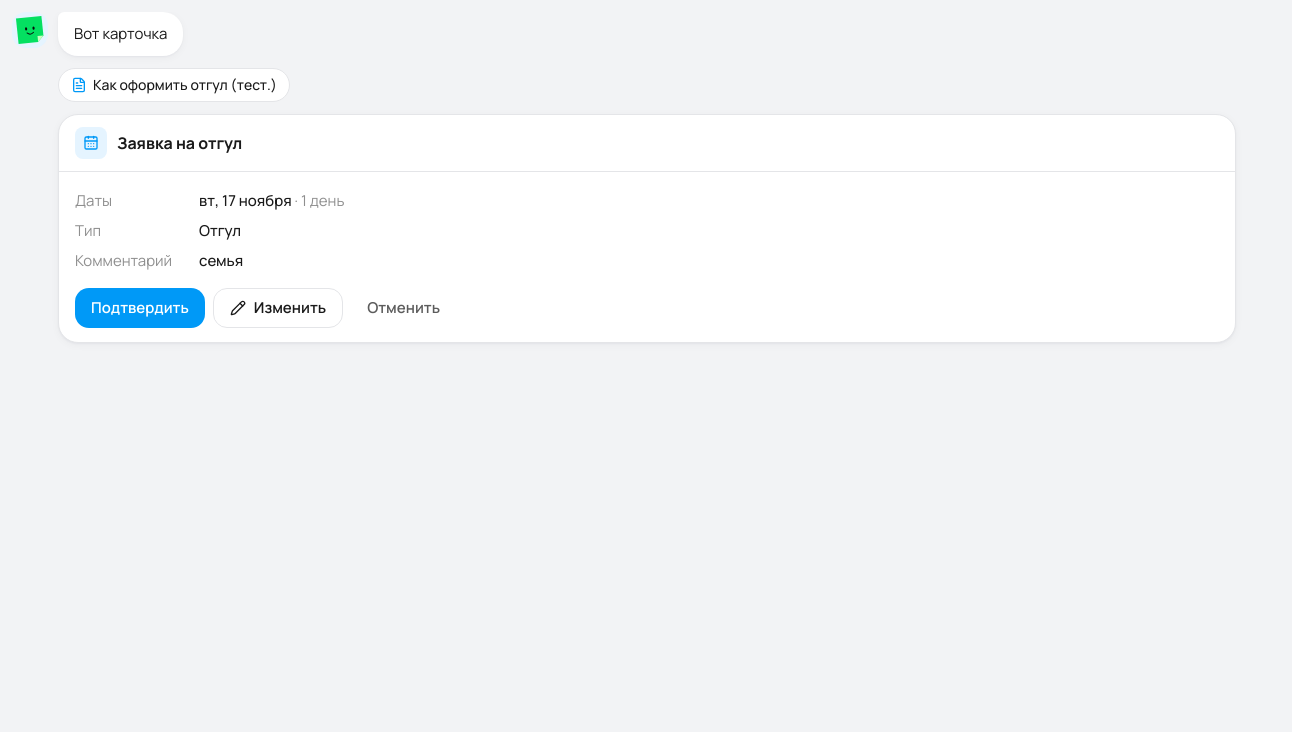
ActionCard: leave_request › «Отменить правки» возвращает просмотр, «Отменить» — отменяет действие
Click the button "Изменить": (278, 308) [213,288,343,328]
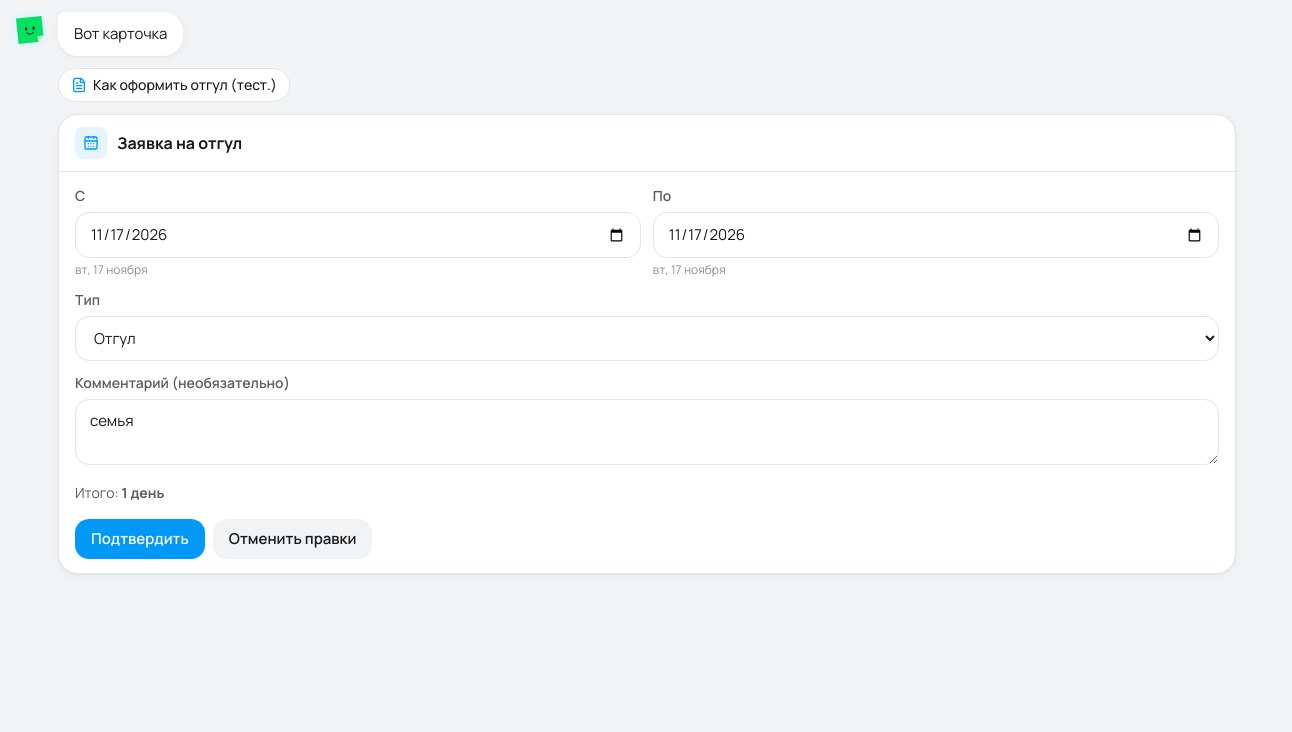
Click the button "Отменить правки": (293, 539) [213,519,372,559]
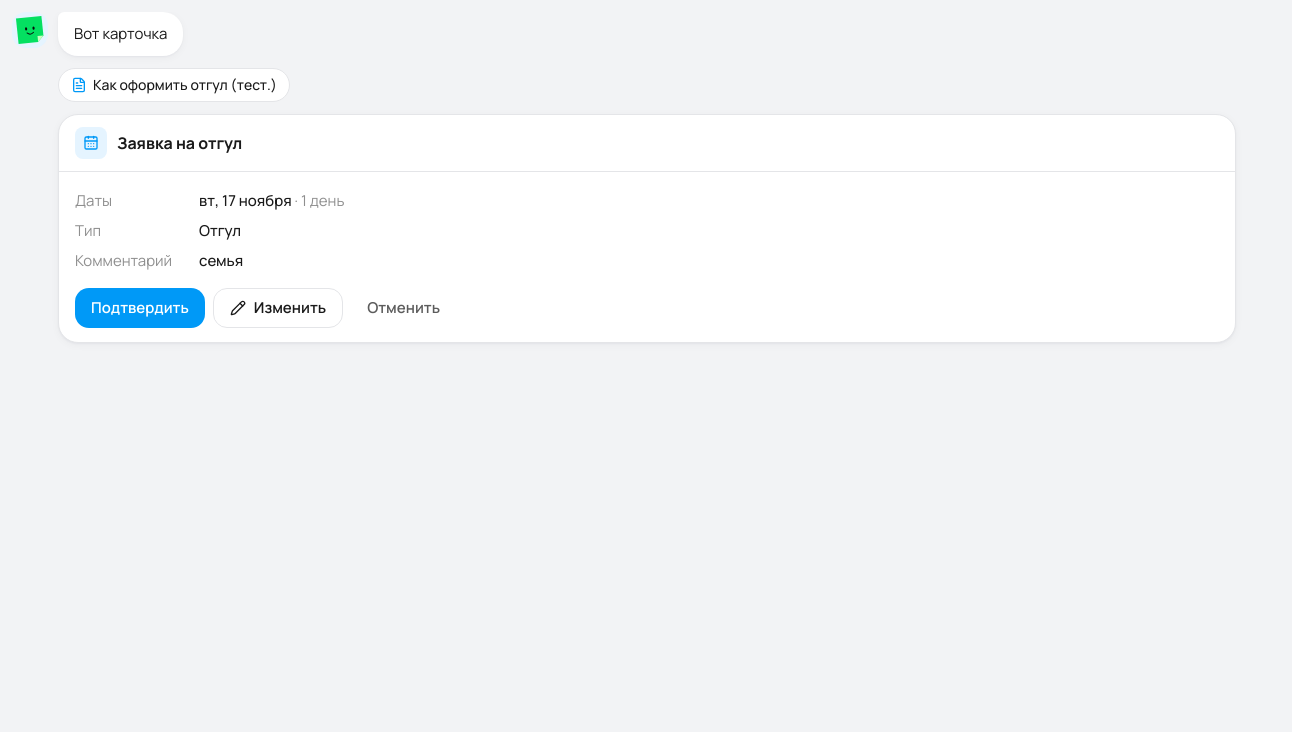
Click the button "Отменить": (404, 308) [351,288,456,328]
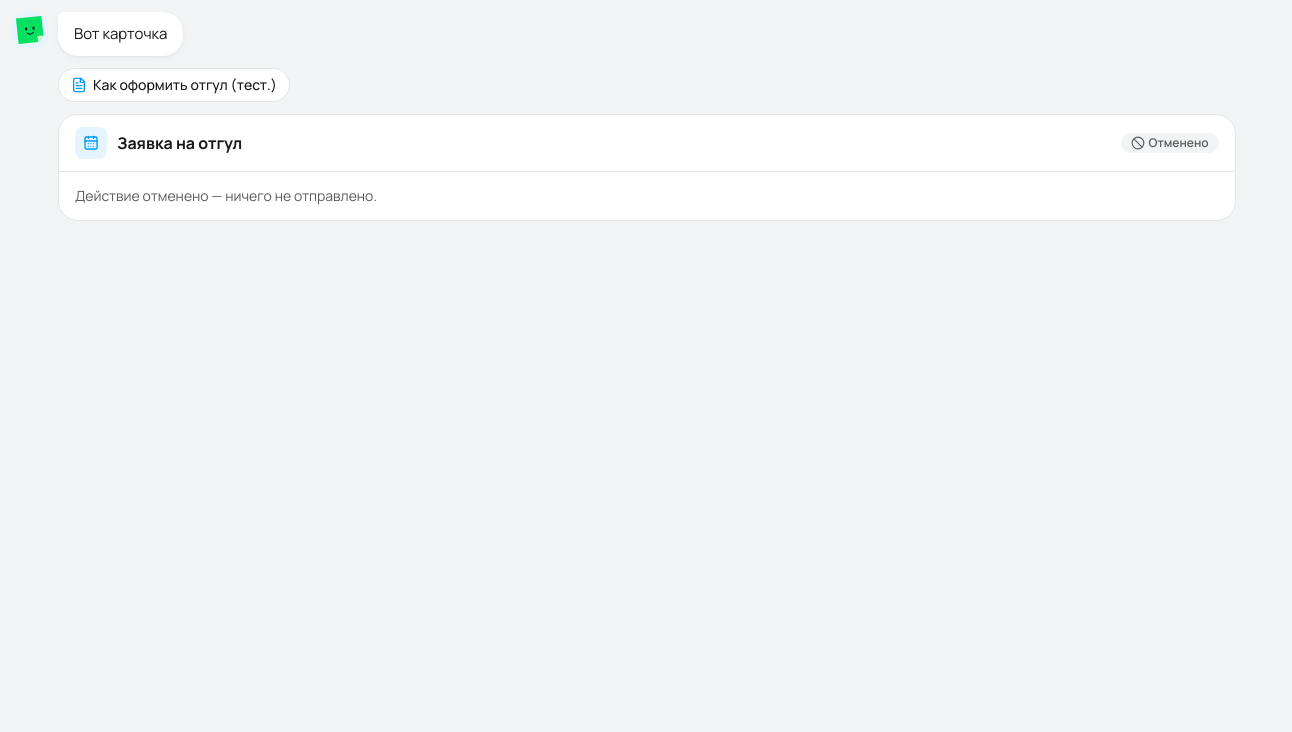
Result: the text "Действие отменено — ничего не отправлено." is shown at [75,186,377,205]
Result: the text "Отменено" is shown at [1120,133,1219,153]
